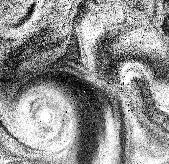CE: (11, 78, 87, 154)
